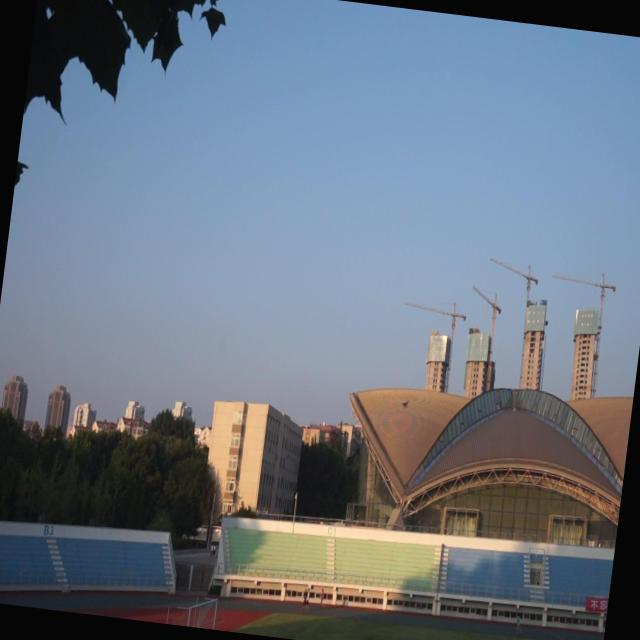drone: (399, 394, 411, 412)
